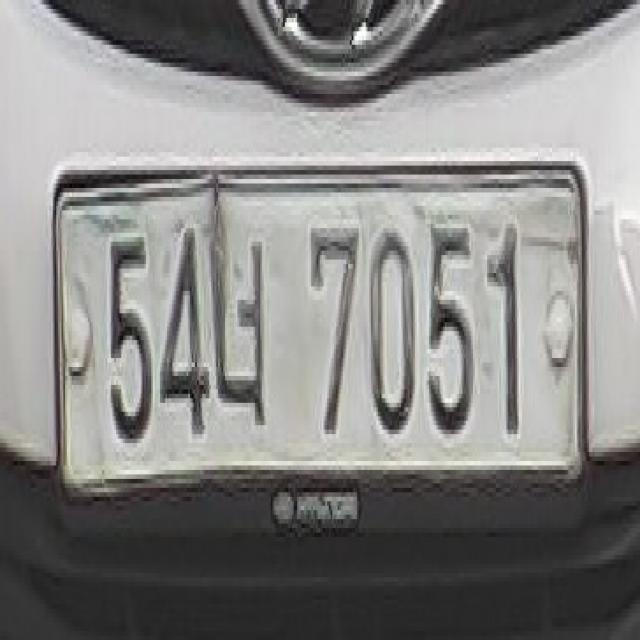0: (368, 214, 413, 438)
1: (487, 201, 522, 443)
4: (158, 197, 209, 479)
5: (90, 202, 164, 474), (422, 197, 480, 465)
7: (306, 197, 371, 452)
license_plate: (53, 156, 587, 514)
neo: (208, 223, 276, 430)
